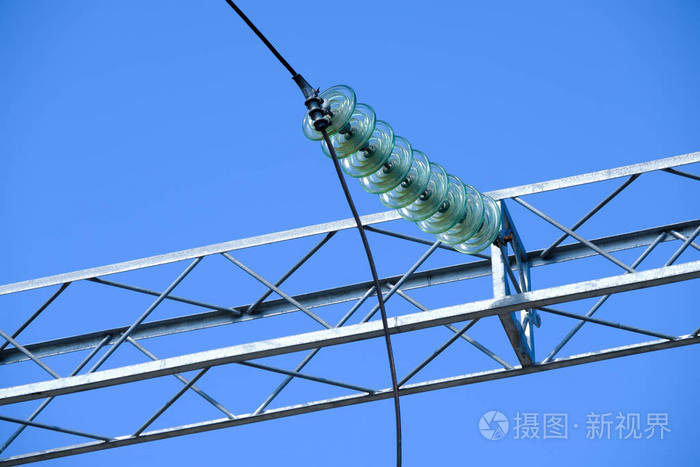insulator: (304, 85, 497, 251)
